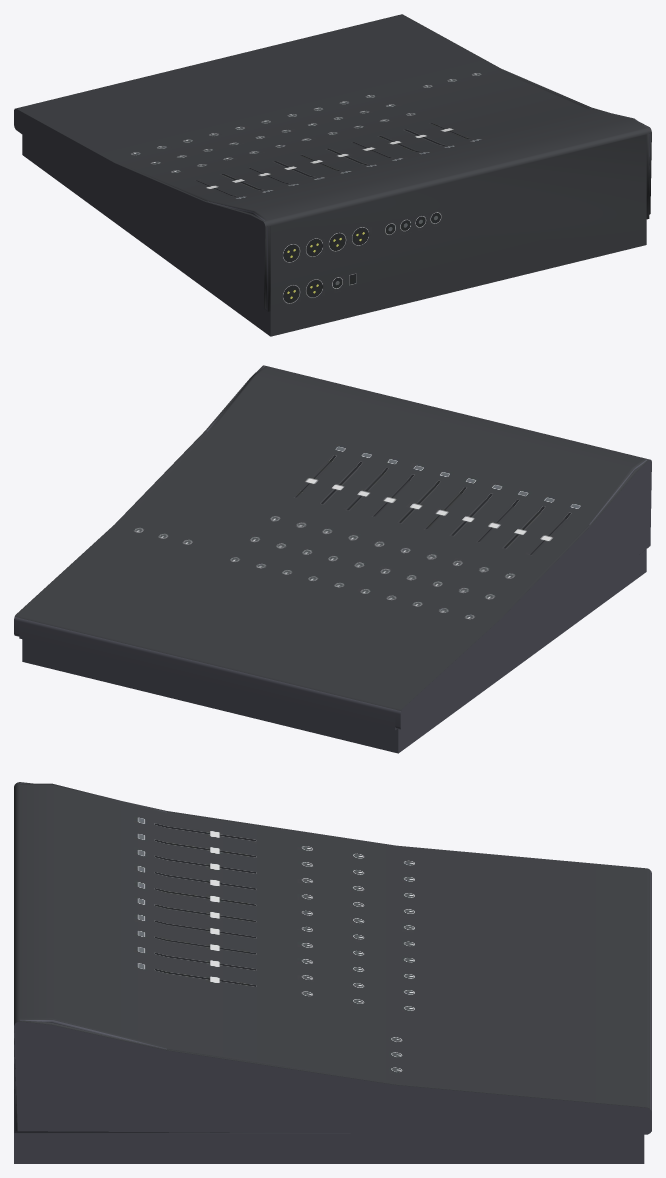
File: yamaha-mg16xu.glb
3 renders of one model, top to bottom at view 1: azimuth 30°, elevation 25°; view 2: azimuth 150°, elevation 25°; view 3: azimuth 270°, elevation 25°, orthographic. The views are drawn at different scales.
Parts seen in each view (by area): view 1: yamaha-mg16xu-body; view 2: yamaha-mg16xu-body; view 3: yamaha-mg16xu-body.
Boxes of the visible parts, left/top/right/bottom form: yamaha-mg16xu-body: left=14, top=14, right=651, bottom=336; yamaha-mg16xu-body: left=14, top=365, right=651, bottom=753; yamaha-mg16xu-body: left=14, top=782, right=651, bottom=1163.
Size of the model in its own units: 0.444 by 0.13 by 0.5.
1 material, 1 textured.
